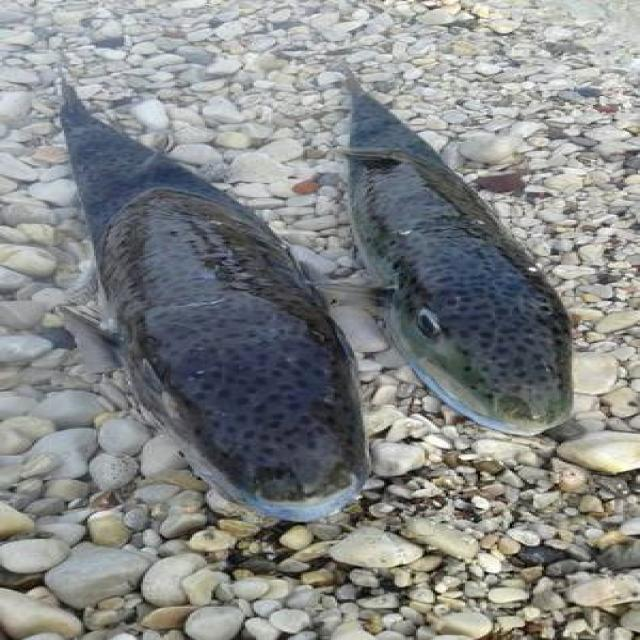Balik: (62, 86, 369, 520), (344, 70, 571, 433)
